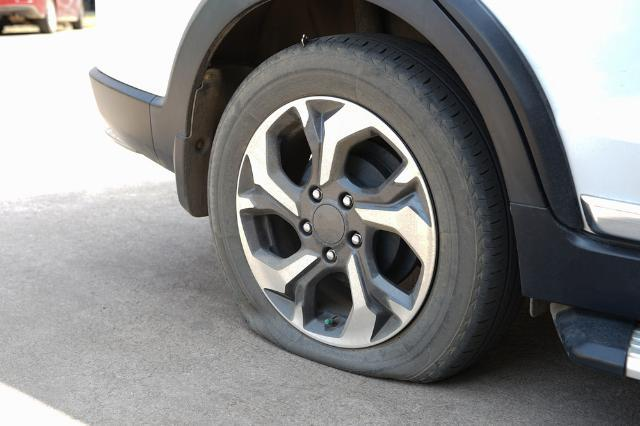tire flat: (208, 33, 519, 386)
